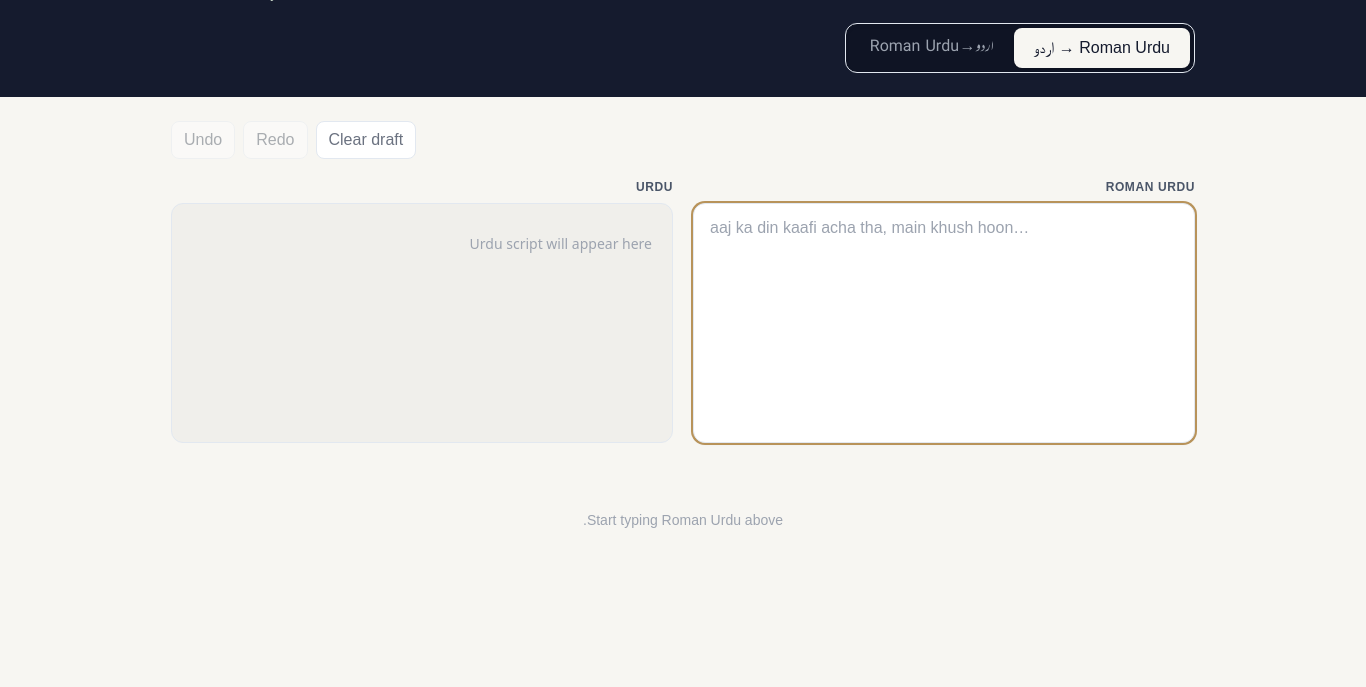
Scenario: 2. Roman mode formatting uses current finalOutput
This screenshot has width=1366, height=687.
Type "aaj theek hai" into the text box with id "roman-input" at (944, 323), box [693,203,1195,443]
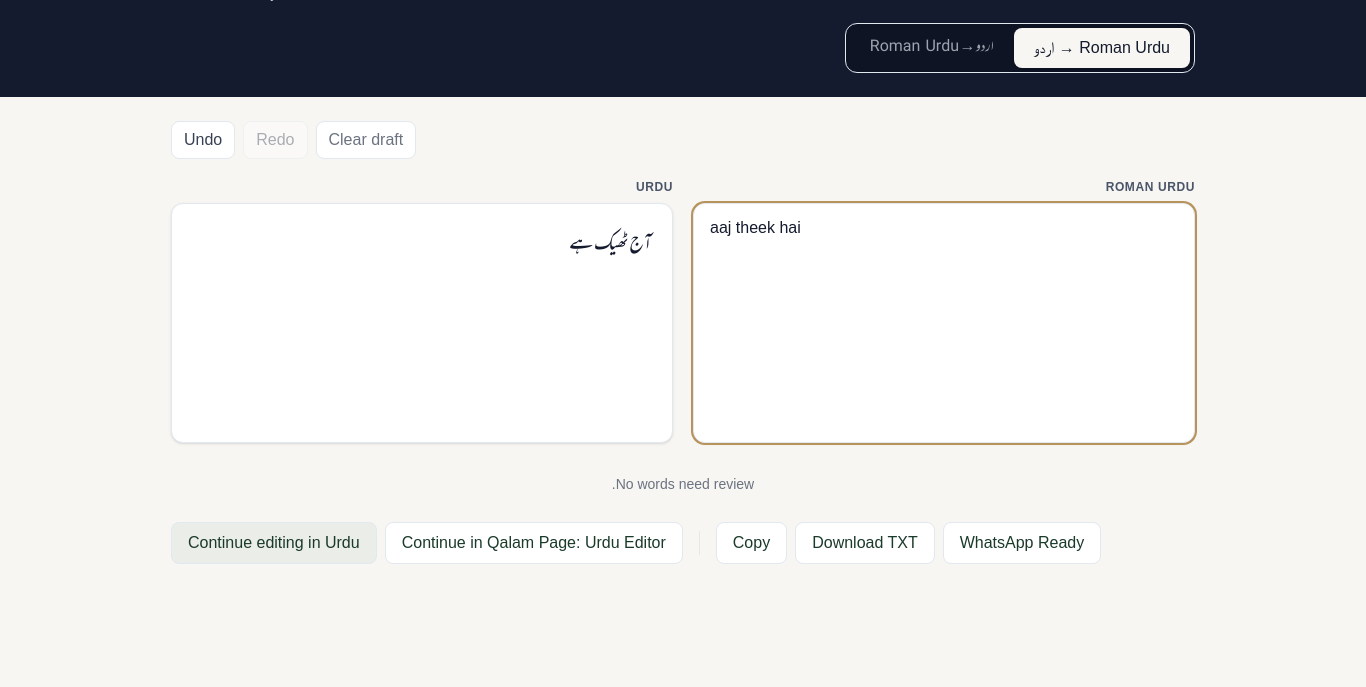
Click the button with test id "writer-whatsapp-ready" at (1022, 543), box [943,522,1101,564]
(page scrolled)
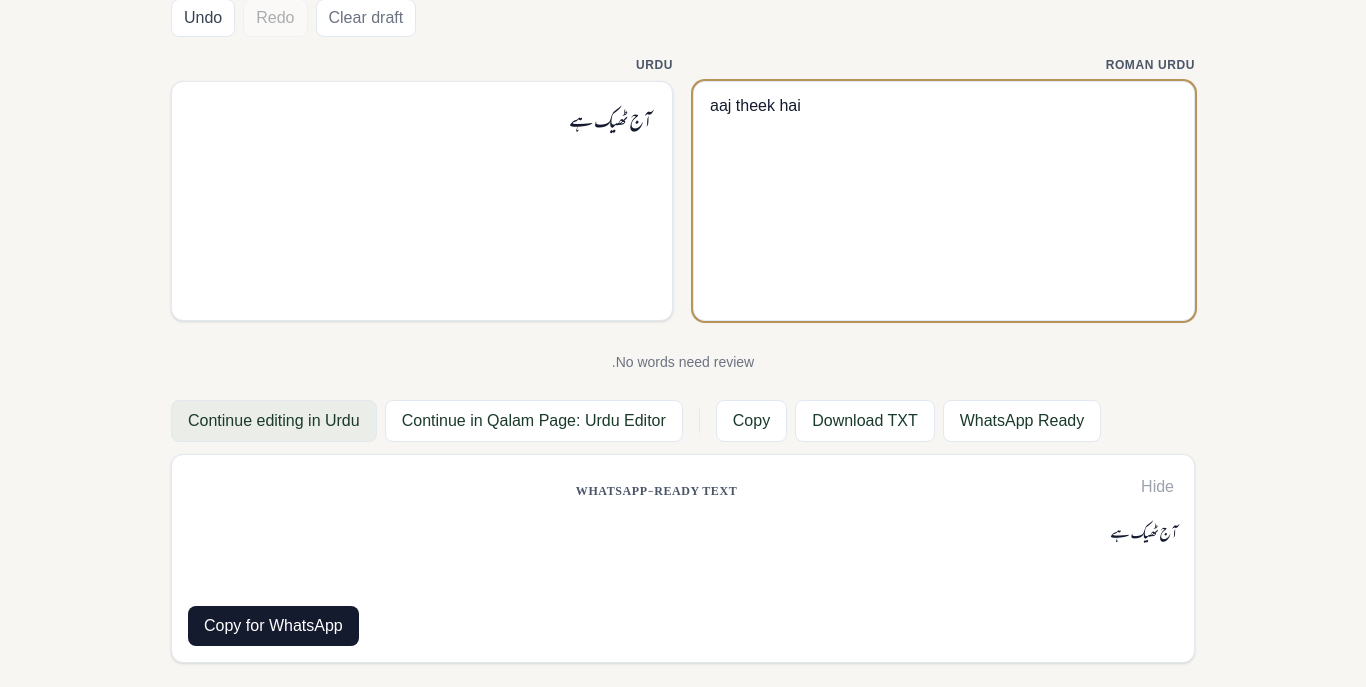
Now the element with test id "writer-whatsapp-preview" is shown, box [171,454,1195,663]
